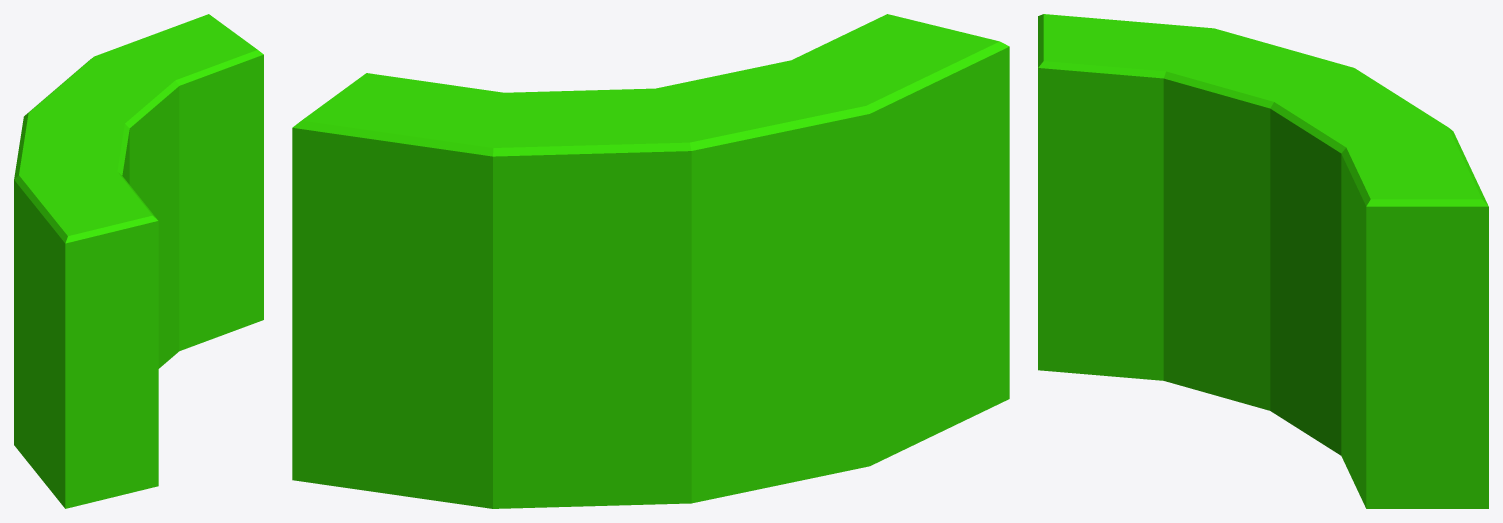
Rendered from round_4x3_01.fbx.
3 renders of one model, left to right at view 1: azimuth 30°, elevation 25°; view 2: azimuth 150°, elevation 25°; view 3: azimuth 270°, elevation 25°, orthographic. The views are drawn at different scales.
Parts seen in each view (by area): view 1: round_4x3_01; view 2: round_4x3_01; view 3: round_4x3_01.
Boxes of the visible parts, left/top/right/bottom form: round_4x3_01: left=14, top=14, right=263, bottom=508; round_4x3_01: left=292, top=14, right=1009, bottom=508; round_4x3_01: left=1038, top=14, right=1488, bottom=508.
Bounding box in the file's own units: 412 × 310 × 412.
